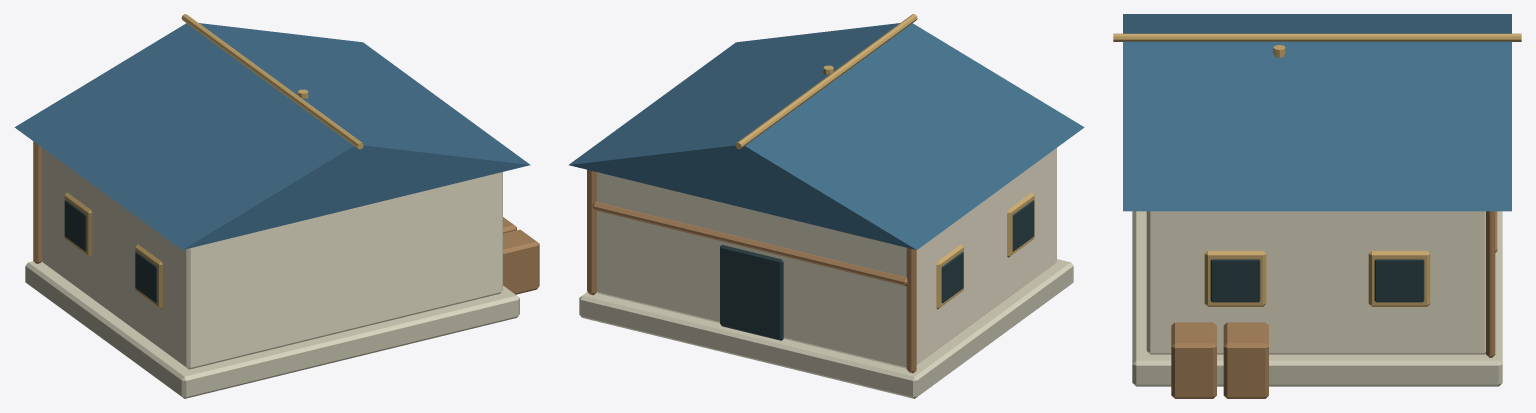
Rendered from level_03.glb.
3 views of the same model, side by side, from view 1: azimuth 30°, elevation 25°; view 2: azimuth 150°, elevation 25°; view 3: azimuth 270°, elevation 25° (orthographic). The views are drawn at different scales.
Parts seen in each view (by area): view 1: warehouse — level 03; view 2: warehouse — level 03; view 3: warehouse — level 03.
Part boxes in pixels (box(x1,y1,x2,y2)): warehouse — level 03: box(14, 14, 539, 398); warehouse — level 03: box(569, 14, 1084, 398); warehouse — level 03: box(1113, 14, 1521, 398).
Bounding box in the file's own units: 5.36 × 3.01 × 4.3.
